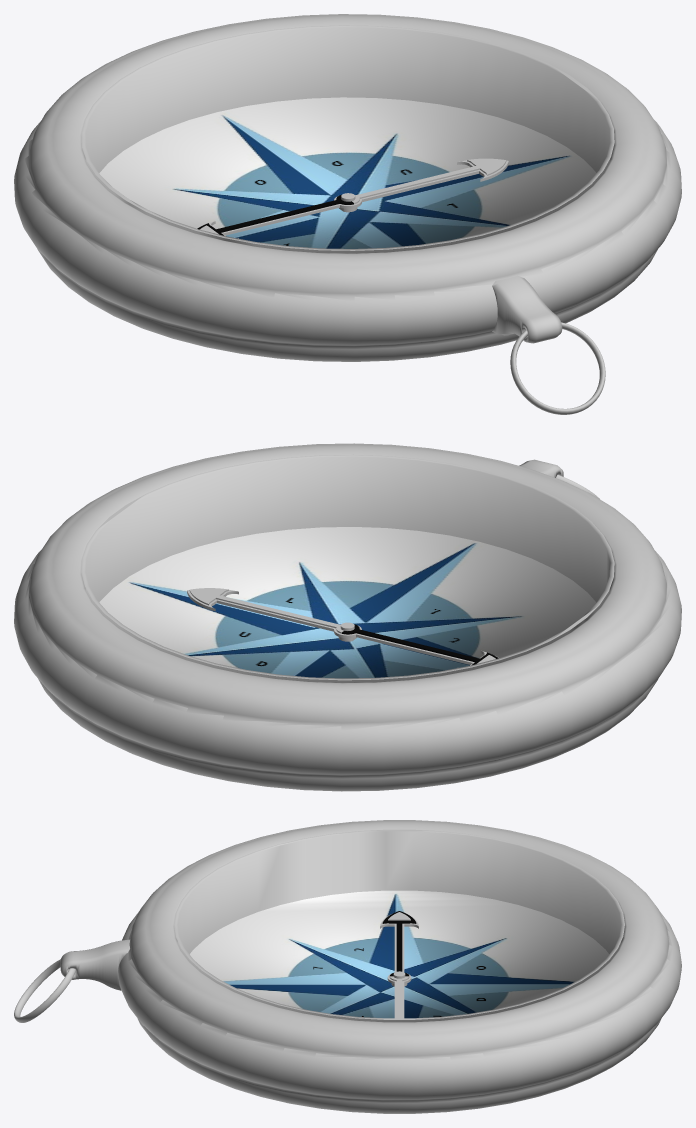
The model's file is ludo72.gltf.
The picture shows the model from 3 angles, top to bottom: view 1: azimuth 30°, elevation 25°; view 2: azimuth 150°, elevation 25°; view 3: azimuth 270°, elevation 25°; orthographic projection. The views are drawn at different scales.
Parts seen in each view (by area): view 1: Material2, Material2.009, Material2.010, Material2.011, Material2.001, Material2.006, Material2.004, Material2.013, Material2.007, Material2.014; view 2: Material2, Material2.009, Material2.010, Material2.011, Material2.006, Material2.004, Material2.007; view 3: Material2, Material2.009, Material2.010, Material2.011, Material2.001, Material2.006, Material2.013, Material2.007, Material2.014.
Boxes of the visible parts, <box> form: Material2: <box>14,14,681,361</box>; Material2.009: <box>99,97,596,248</box>; Material2.010: <box>85,27,610,253</box>; Material2.011: <box>81,25,614,250</box>; Material2.001: <box>492,275,562,343</box>; Material2.006: <box>197,160,508,238</box>; Material2.004: <box>341,158,506,204</box>; Material2.013: <box>510,322,605,414</box>; Material2.007: <box>197,194,353,235</box>; Material2.014: <box>515,324,603,409</box>; Material2: <box>14,443,681,791</box>; Material2.009: <box>99,527,596,678</box>; Material2.010: <box>85,456,610,682</box>; Material2.011: <box>81,454,614,680</box>; Material2.006: <box>187,590,498,667</box>; Material2.004: <box>189,588,354,633</box>; Material2.007: <box>342,624,498,664</box>; Material2: <box>118,820,681,1113</box>; Material2.009: <box>190,890,609,1018</box>; Material2.010: <box>177,831,621,1022</box>; Material2.011: <box>174,829,624,1019</box>; Material2.001: <box>60,939,129,990</box>; Material2.006: <box>380,913,418,1018</box>; Material2.013: <box>14,959,75,1022</box>; Material2.007: <box>382,911,416,976</box>; Material2.014: <box>14,959,68,1017</box>.
Bounding box in the file's own units: 88.23 × 16.09 × 105.
